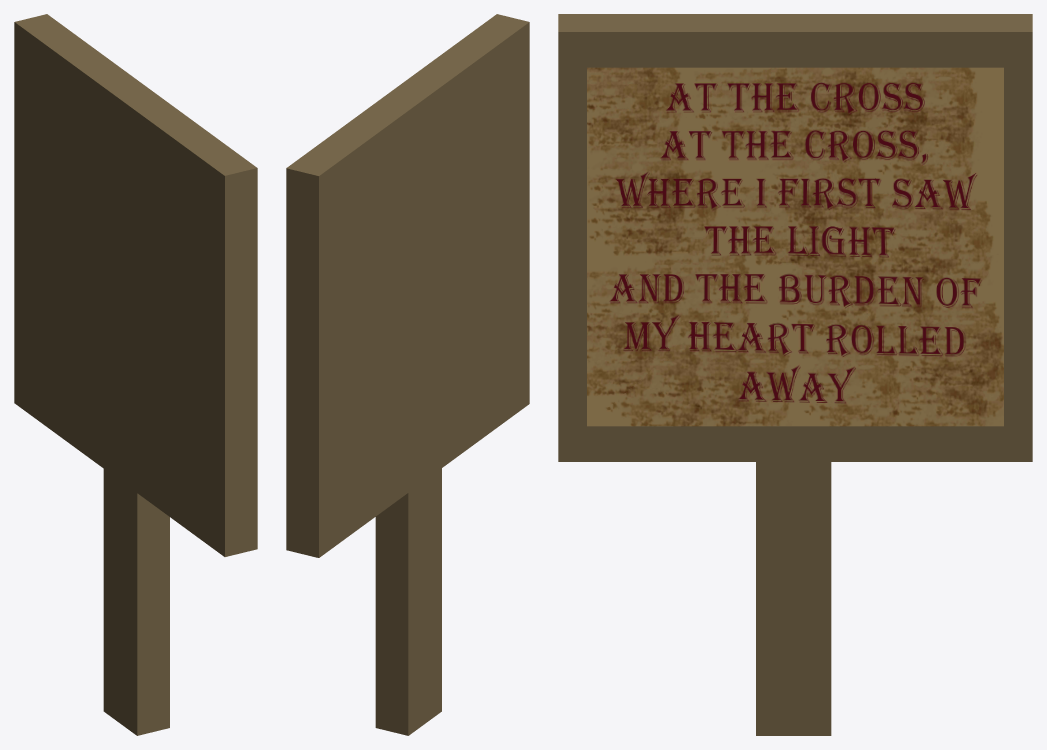
Rendered from sign.fbx.
The picture shows the model from 3 angles, left to right: view 1: azimuth 30°, elevation 25°; view 2: azimuth 150°, elevation 25°; view 3: azimuth 270°, elevation 25°; orthographic projection. The views are drawn at different scales.
Parts seen in each view (by area): view 1: pCube1; view 2: pCube1; view 3: pCube1.
Part boxes in pixels (x1,y1,x2,y2): pCube1: [14, 14, 257, 735]; pCube1: [286, 14, 529, 735]; pCube1: [558, 14, 1032, 735].
Size of the model in its own units: 0.0897 by 1.64 by 1.
